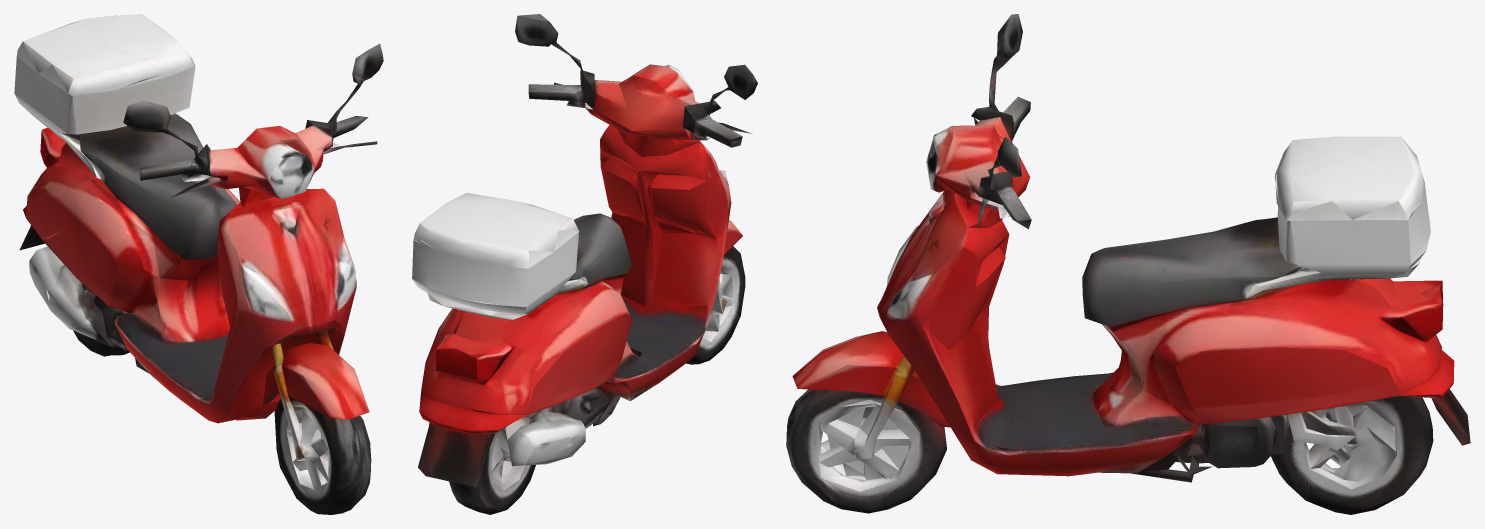
Rendered from deliveryScooter.glb.
3 renders of one model, left to right at view 1: azimuth 30°, elevation 25°; view 2: azimuth 150°, elevation 25°; view 3: azimuth 270°, elevation 25°, orthographic. The views are drawn at different scales.
Visible parts, largest first — view 1: model; view 2: model; view 3: model.
Boxes of the visible parts, x1,y1,x2,y2 form: model: (14,14,383,514); model: (412,14,757,514); model: (786,14,1470,514).
Size of the model in its own units: 0.9156 by 1.33 by 1.89.
1 material, 1 textured.
